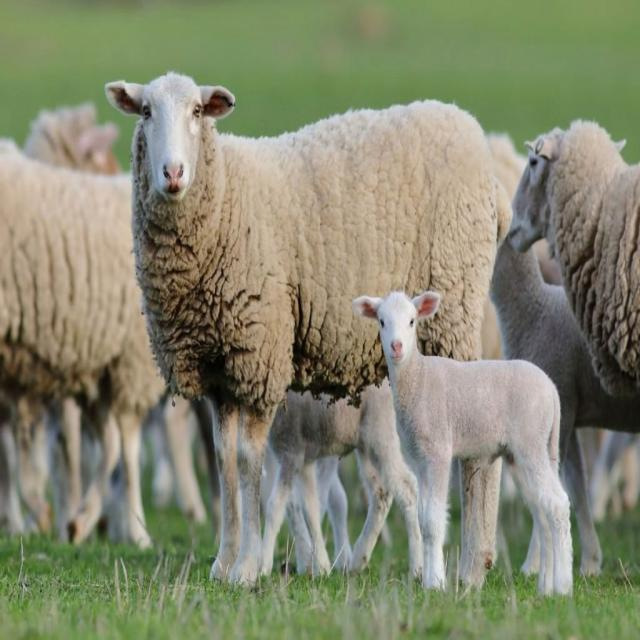sheep: (105, 72, 509, 581), (352, 291, 572, 594), (0, 151, 164, 547), (508, 124, 639, 396)
